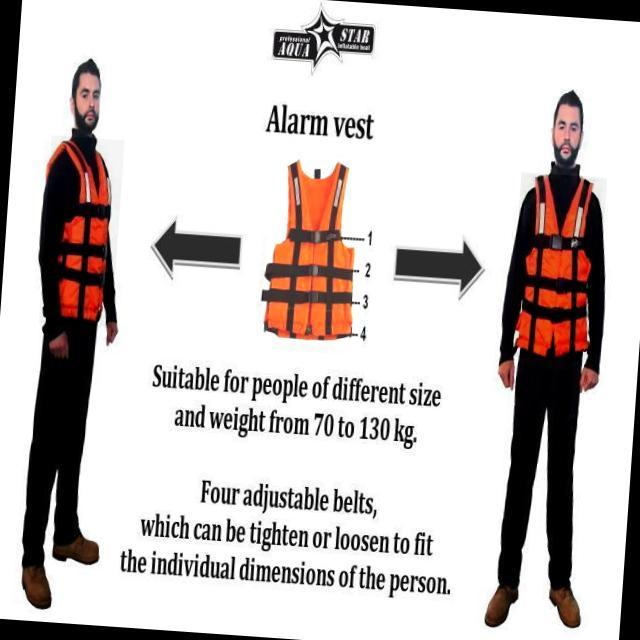Person: (475, 65, 624, 640), (12, 48, 147, 630)
Safety Boot: (14, 554, 60, 626), (52, 523, 104, 580), (483, 583, 527, 639), (548, 584, 591, 638)
Safety Vest: (260, 153, 375, 348), (508, 172, 607, 363), (38, 135, 124, 327)
bare-arms: (569, 353, 610, 405), (488, 344, 520, 400), (48, 322, 79, 378), (99, 318, 125, 353)
no-helmet: (545, 81, 592, 130), (61, 54, 107, 103)
